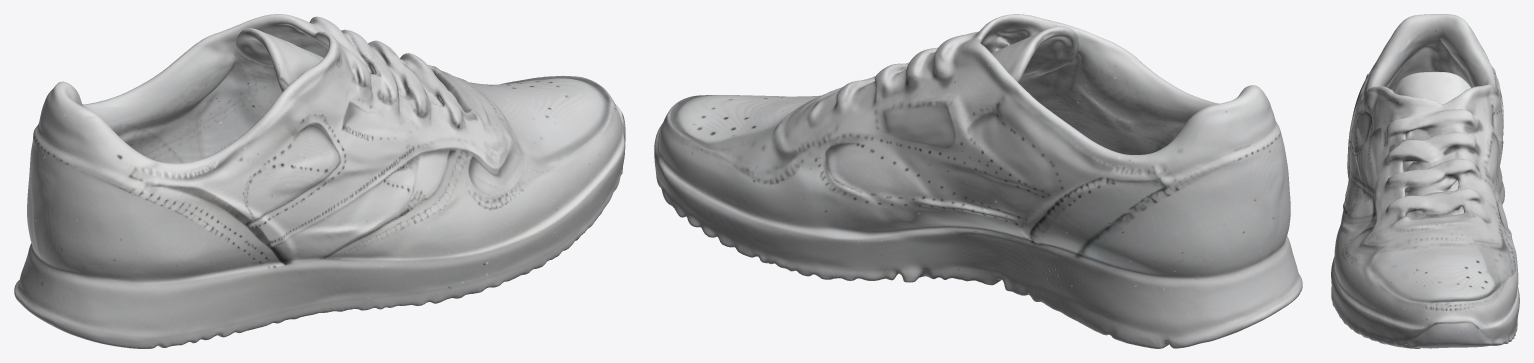
Rendered from shoe.glb.
The picture shows the model from 3 angles, left to right: view 1: azimuth 30°, elevation 25°; view 2: azimuth 150°, elevation 25°; view 3: azimuth 270°, elevation 25°; orthographic projection. The views are drawn at different scales.
Size of the model in its own units: 2 by 0.7914 by 0.7452.
Materials: 1 (1 with a texture image).
